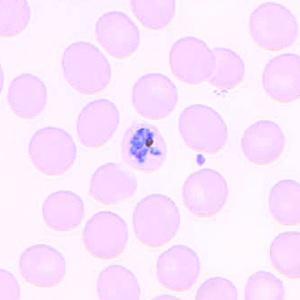Infected: (116, 121, 168, 173)
Uninfected: (61, 40, 113, 92), (179, 103, 228, 152), (131, 193, 178, 244), (250, 1, 297, 51), (168, 36, 216, 84), (28, 126, 75, 174), (184, 168, 227, 219), (83, 210, 128, 258), (133, 74, 177, 121), (77, 100, 120, 148), (95, 11, 138, 59), (240, 118, 283, 166), (20, 245, 67, 288), (6, 73, 49, 119), (89, 164, 137, 203), (262, 54, 299, 104), (158, 247, 199, 290), (44, 189, 82, 232), (205, 49, 245, 89), (96, 263, 139, 300), (268, 229, 300, 278), (268, 178, 300, 224)
